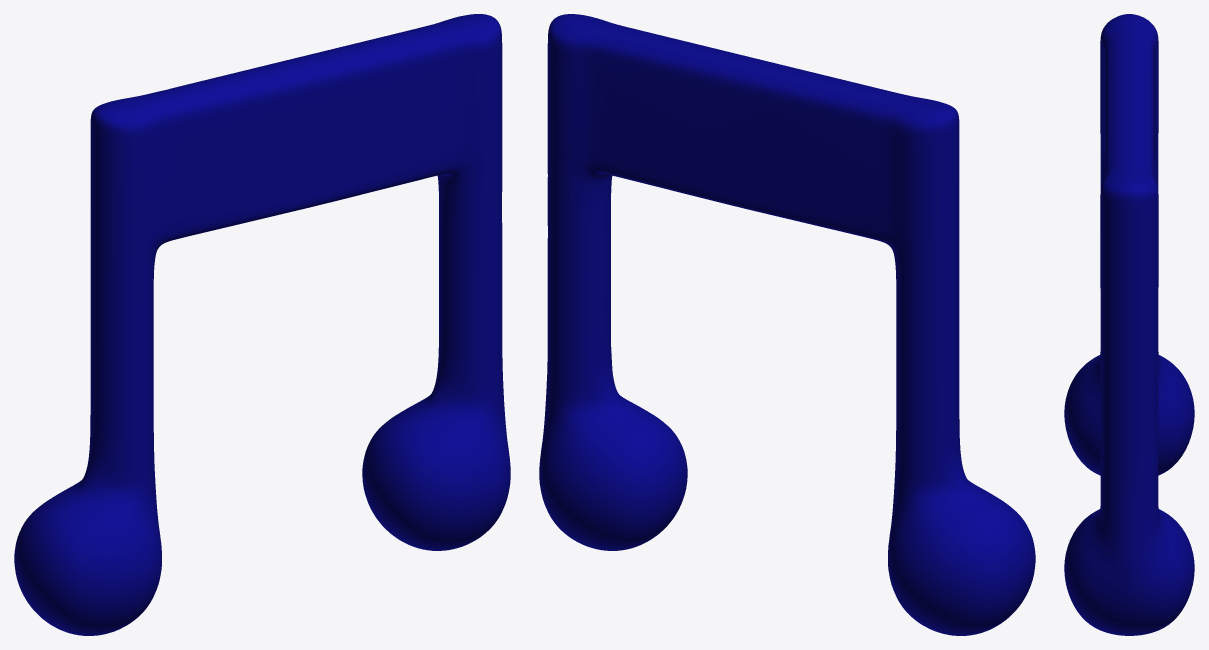
Rendered from music.glb.
The picture shows the model from 3 angles, left to right: view 1: azimuth 30°, elevation 25°; view 2: azimuth 150°, elevation 25°; view 3: azimuth 270°, elevation 25°; orthographic projection. The views are drawn at different scales.
Visible parts, largest first — view 1: music; view 2: music; view 3: music.
Part boxes in pixels (left/top/right/bottom): music: left=14, top=14, right=510, bottom=635; music: left=539, top=14, right=1035, bottom=635; music: left=1064, top=14, right=1194, bottom=635.
Size of the model in its own units: 1.82 by 1.89 by 0.4759.
